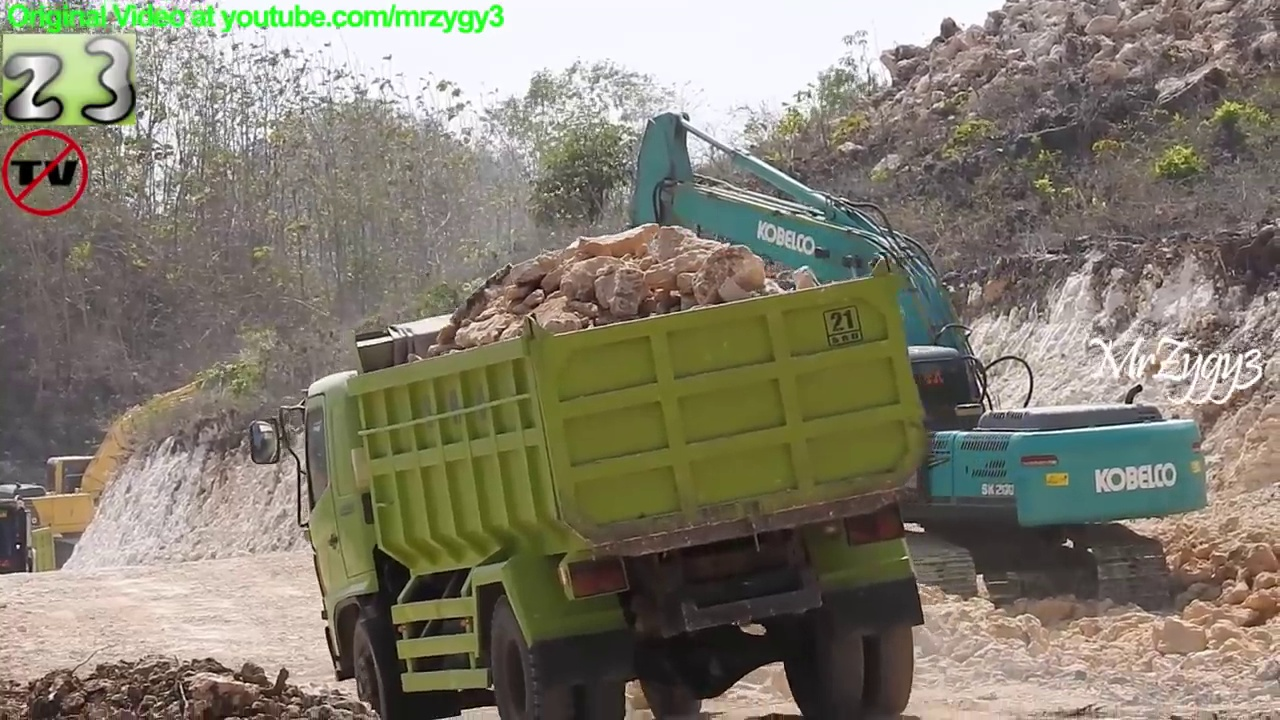excavator: (575, 110, 1220, 624), (1, 374, 231, 562)
truck: (244, 250, 942, 720), (1, 487, 61, 596)
